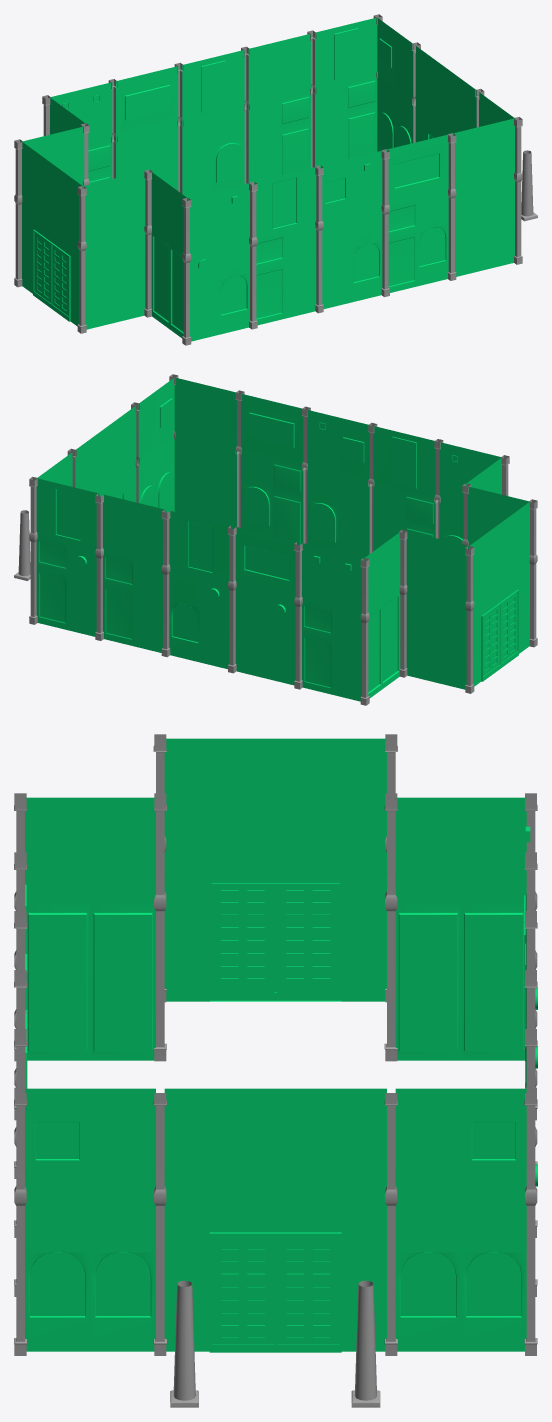
Rendered from LibraryWallsAndPillars.fbx.
3 views of the same model, one above another, from view 1: azimuth 30°, elevation 25°; view 2: azimuth 150°, elevation 25°; view 3: azimuth 270°, elevation 25° (orthographic). The views are drawn at different scales.
Parts seen in each view (by area): view 1: TopFloorTallWindow4, TopFloorBigFlatWall6, TopFloorBigWindow2, TopFloorTallWindow3, TopFloorBiggerFlatWallExtension, TopFloorTallWindow, TopFloorBigWindow, TopFloorBigFlatWall1, TopFloorBigFlatWall, TopFloorBigFlatWall8, FlatWallBottomFloor17, ArchWallBottom9 (+58 smaller); view 2: TopFloorTallWindow, TopFloorBigFlatWall1, TopFloorBigWindow, TopFloorTallWindow3, TopFloorBiggerFlatWallExtension2, TopFloorBigWindow2, TopFloorTallWindow4, TopFloorBigFlatWall6, TopFloorBigFlatWall, TopFloorBigFlatWall8, ArchWallBottom12, FrameWallBottomFloor (+57 smaller); view 3: TopFloorBigFlatWall, TopFloorBigFlatWall8, BigDoorWall1, BigDoorWall, BigDoor, BigDoor2, TopFloorBigFlatWall7, TopFloorBigFlatWall2, BigWindowBottomFloor6, ArchWallBottom, ArchWallBottom13, BigWindowBottomFloor5 (+22 smaller).
Boxes of the visible parts, <box> form: TopFloorTallWindow4: <box>182,50,244,122</box>; TopFloorBigFlatWall6: <box>248,33,310,106</box>; TopFloorBigWindow2: <box>116,66,178,138</box>; TopFloorTallWindow3: <box>315,17,377,90</box>; TopFloorBiggerFlatWallExtension: <box>83,171,145,243</box>; TopFloorTallWindow: <box>254,167,316,238</box>; TopFloorBigWindow: <box>386,134,448,206</box>; TopFloorBigFlatWall1: <box>452,118,514,190</box>; TopFloorBigFlatWall: <box>415,46,476,132</box>; TopFloorBigFlatWall8: <box>22,142,82,240</box>; FlatWallBottomFloor17: <box>483,176,514,269</box>; ArchWallBottom9: <box>417,192,448,286</box>; TopFloorTallWindow: <box>373,426,435,498</box>; TopFloorBigFlatWall1: <box>174,377,236,449</box>; TopFloorBigWindow: <box>241,393,303,466</box>; TopFloorTallWindow3: <box>36,478,99,550</box>; TopFloorBiggerFlatWallExtension2: <box>406,531,468,603</box>; TopFloorBigWindow2: <box>235,527,297,598</box>; TopFloorTallWindow4: <box>169,510,231,582</box>; TopFloorBigFlatWall6: <box>103,494,165,566</box>; TopFloorBigFlatWall: <box>75,406,136,492</box>; TopFloorBigFlatWall8: <box>469,502,529,600</box>; ArchWallBottom12: <box>169,569,200,662</box>; FrameWallBottomFloor: <box>36,536,67,630</box>; TopFloorBigFlatWall: <box>164,1088,386,1193</box>; TopFloorBigFlatWall8: <box>164,738,386,843</box>; BigDoorWall1: <box>164,844,386,1001</box>; BigDoorWall: <box>164,1194,386,1351</box>; BigDoor: <box>209,1232,341,1352</box>; BigDoor2: <box>210,882,341,1001</box>; TopFloorBigFlatWall7: <box>395,797,526,902</box>; TopFloorBigFlatWall2: <box>25,797,155,902</box>; BigWindowBottomFloor6: <box>90,903,155,1060</box>; ArchWallBottom: <box>25,1194,90,1351</box>; ArchWallBottom13: <box>90,1194,155,1351</box>; BigWindowBottomFloor5: <box>395,903,460,1060</box>.
Size of the model in its own units: 43.51 by 13 by 23.48.
